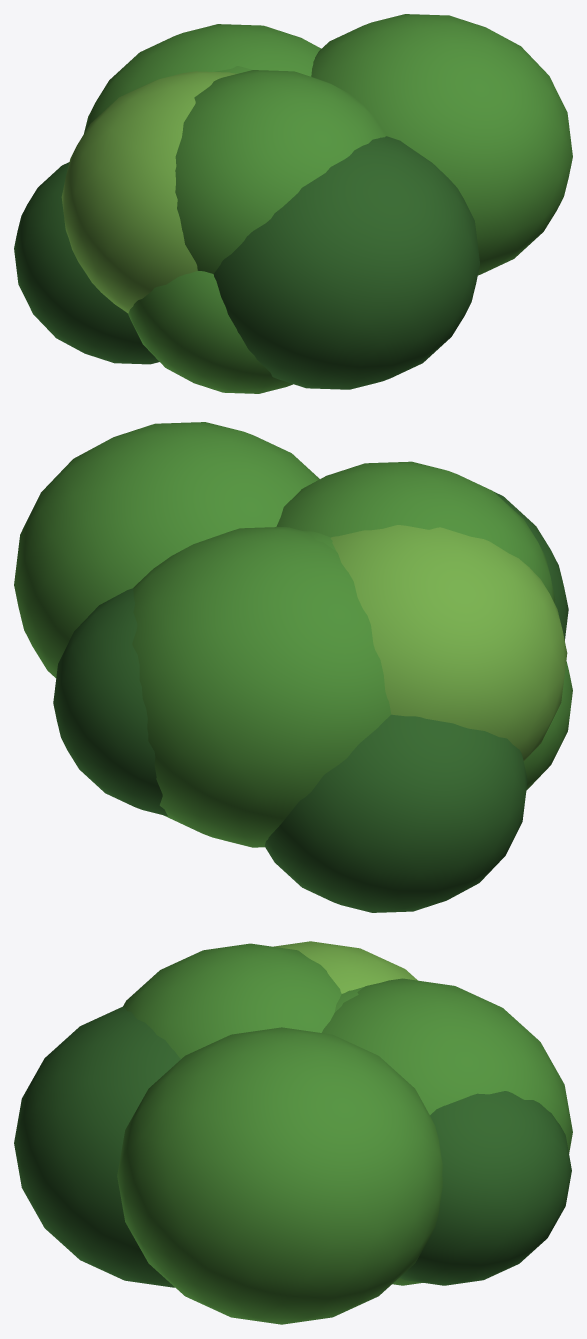
Rendered from buisson_prairie_2.glb.
3 renders of one model, top to bottom at view 1: azimuth 30°, elevation 25°; view 2: azimuth 150°, elevation 25°; view 3: azimuth 270°, elevation 25°, orthographic. The views are drawn at different scales.
Parts seen in each view (by area): view 1: feuillage_feuille.012, feuillage_feuille_sombre.012, feuillage_feuille_claire.008; view 2: feuillage_feuille.012, feuillage_feuille_sombre.012, feuillage_feuille_claire.008; view 3: feuillage_feuille.012, feuillage_feuille_sombre.012, feuillage_feuille_claire.008.
Boxes of the visible parts, x1=… form: feuillage_feuille.012: x1=84, y1=14, x2=572, y2=393; feuillage_feuille_sombre.012: x1=14, y1=136, x2=479, y2=389; feuillage_feuille_claire.008: x1=61, y1=71, x2=237, y2=313; feuillage_feuille.012: x1=14, y1=422, x2=572, y2=847; feuillage_feuille_sombre.012: x1=53, y1=491, x2=568, y2=912; feuillage_feuille_claire.008: x1=330, y1=525, x2=567, y2=760; feuillage_feuille.012: x1=117, y1=943, x2=572, y2=1324; feuillage_feuille_sombre.012: x1=14, y1=1006, x2=571, y2=1287; feuillage_feuille_claire.008: x1=274, y1=941, x2=417, y2=993.
Size of the model in its own units: 0.8387 by 0.5244 by 0.7983.
